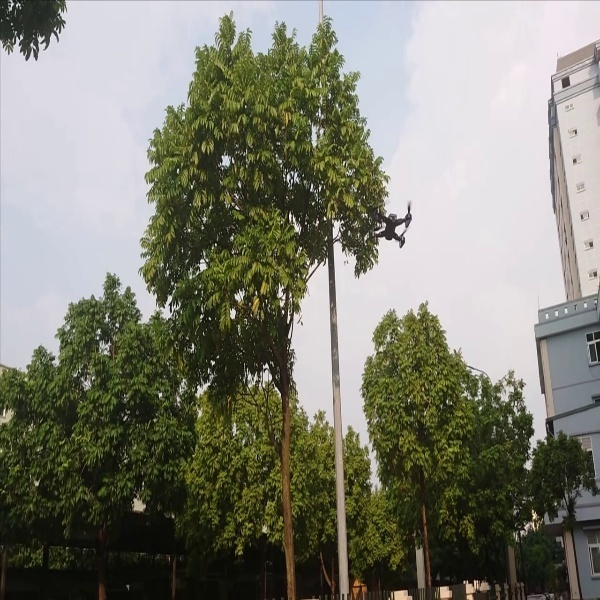drone: (365, 201, 429, 258)
